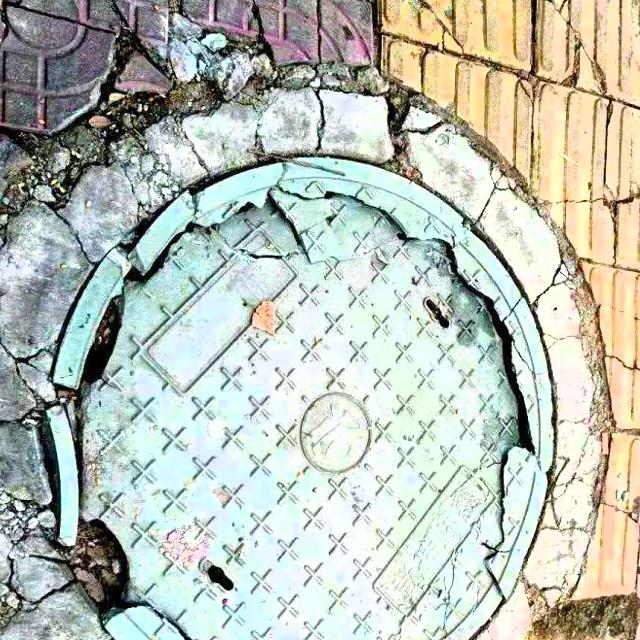circle: (0, 67, 626, 640)
